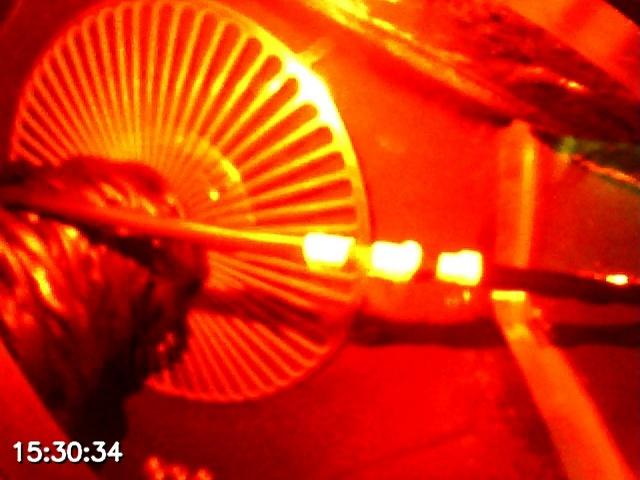white-dots: (301, 231, 485, 287)
